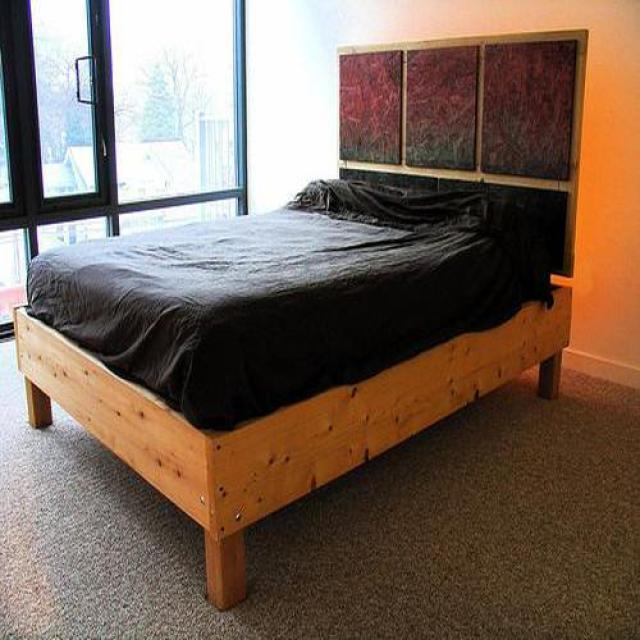bed: (12, 31, 589, 613)
